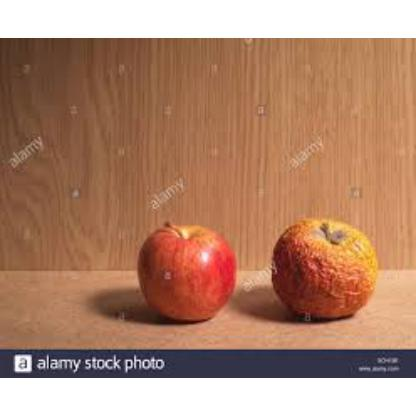apple: (130, 224, 237, 318)
damaged_apple: (266, 224, 382, 318)
